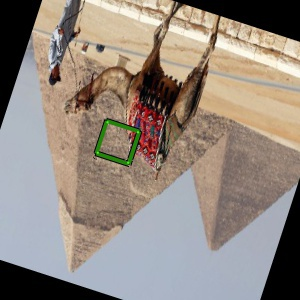square: (93, 117, 143, 167)
